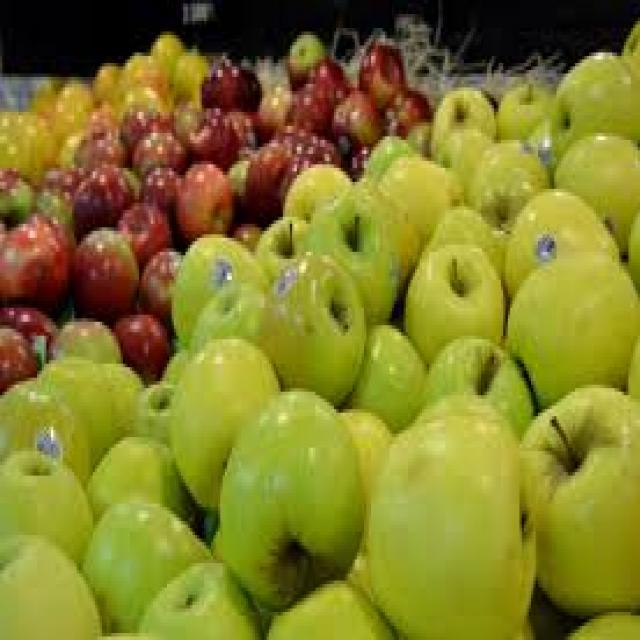organic waste: (366, 388, 534, 637), (216, 384, 362, 608), (519, 378, 638, 622), (170, 332, 278, 511), (506, 252, 638, 398), (81, 490, 213, 633), (260, 252, 362, 402), (35, 350, 141, 476), (503, 182, 617, 297), (401, 245, 506, 360), (0, 444, 93, 567), (130, 370, 204, 524), (552, 45, 638, 175), (308, 189, 394, 318), (336, 406, 394, 594), (417, 332, 531, 427), (0, 528, 102, 633), (86, 434, 192, 535), (552, 129, 638, 252), (376, 150, 462, 273), (137, 556, 260, 637), (0, 374, 88, 486), (336, 318, 424, 423), (169, 231, 253, 339), (264, 574, 396, 636), (466, 136, 545, 228), (0, 213, 72, 304), (70, 224, 134, 311), (422, 203, 503, 269), (431, 87, 494, 161), (112, 304, 170, 374), (253, 217, 308, 290), (280, 161, 348, 220), (494, 77, 552, 140), (248, 140, 297, 213), (174, 157, 227, 224), (197, 49, 257, 108), (44, 315, 121, 360), (359, 133, 413, 196), (74, 157, 128, 220), (443, 133, 491, 203), (119, 196, 170, 259), (181, 105, 234, 164), (334, 94, 378, 164), (248, 140, 288, 210), (139, 245, 179, 311), (355, 42, 399, 101), (0, 101, 39, 167), (118, 98, 167, 150), (283, 80, 331, 130), (128, 126, 183, 168), (167, 42, 206, 101), (556, 608, 638, 636), (382, 84, 427, 133), (253, 84, 292, 140), (0, 325, 37, 381), (288, 28, 324, 84), (0, 304, 56, 339), (70, 126, 118, 164), (32, 182, 72, 227), (306, 56, 348, 98), (144, 161, 183, 206), (0, 164, 32, 216), (51, 74, 90, 115), (290, 130, 336, 164), (225, 108, 264, 147), (529, 112, 554, 171), (151, 24, 181, 70), (118, 74, 167, 102), (88, 56, 118, 101), (120, 46, 158, 80), (228, 154, 250, 210), (624, 200, 638, 284), (56, 126, 86, 164), (167, 101, 195, 140), (32, 126, 62, 161), (622, 18, 638, 80), (228, 217, 258, 248), (44, 108, 81, 133), (624, 328, 638, 392), (28, 77, 60, 105), (76, 98, 116, 119), (37, 164, 72, 186), (160, 342, 181, 378), (410, 122, 429, 154), (209, 528, 225, 560)
